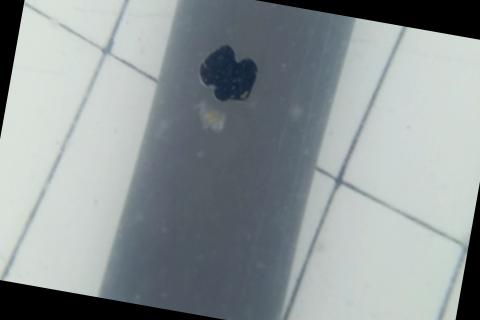kebocoran: (194, 40, 264, 110)
